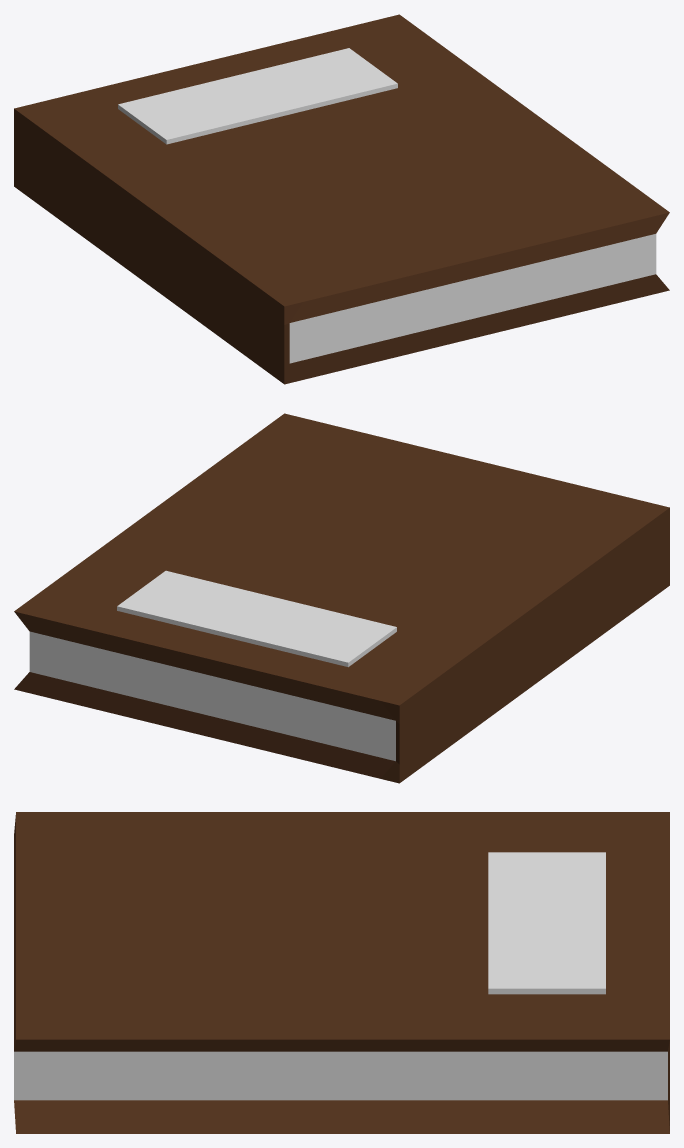
File: Book.fbx
3 views of the same model, one above another, from view 1: azimuth 30°, elevation 25°; view 2: azimuth 150°, elevation 25°; view 3: azimuth 270°, elevation 25° (orthographic). The views are drawn at different scales.
Visible parts, largest first — view 1: Cube; view 2: Cube; view 3: Cube.
Part boxes in pixels (x1=…): Cube: x1=14, y1=14, x2=669, y2=384; Cube: x1=14, y1=413, x2=669, y2=783; Cube: x1=14, y1=812, x2=669, y2=1133.
Size of the model in its own units: 150 by 30.62 by 182.
